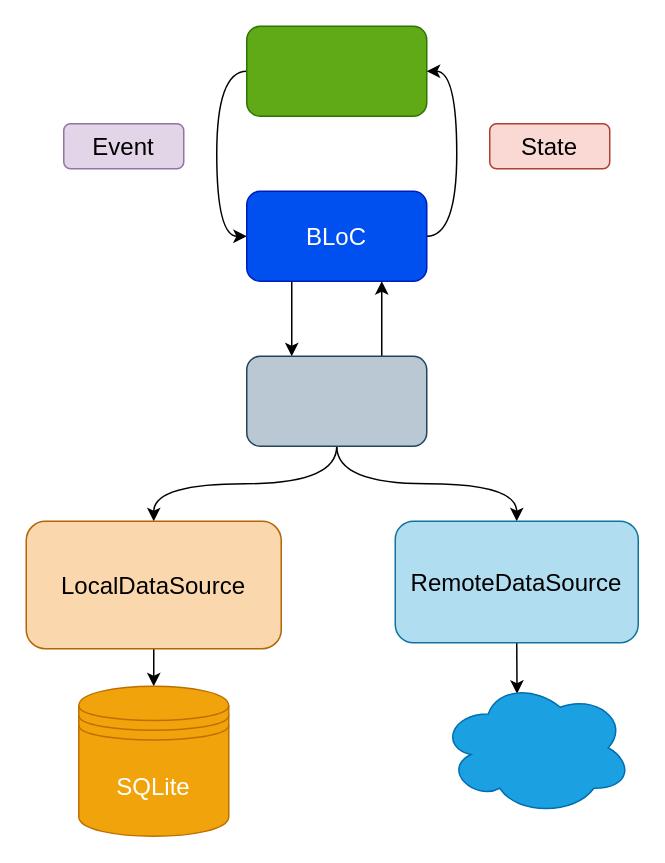
Some shapes in this 665 by 863 pixel diagram are drawn without their labels. The centre of each missing label's shape, as x and y in pixels:
"API" belongs at pixel 535 747.
"Repository" belongs at pixel 336 400.
"View / UI" belongs at pixel 336 70.
